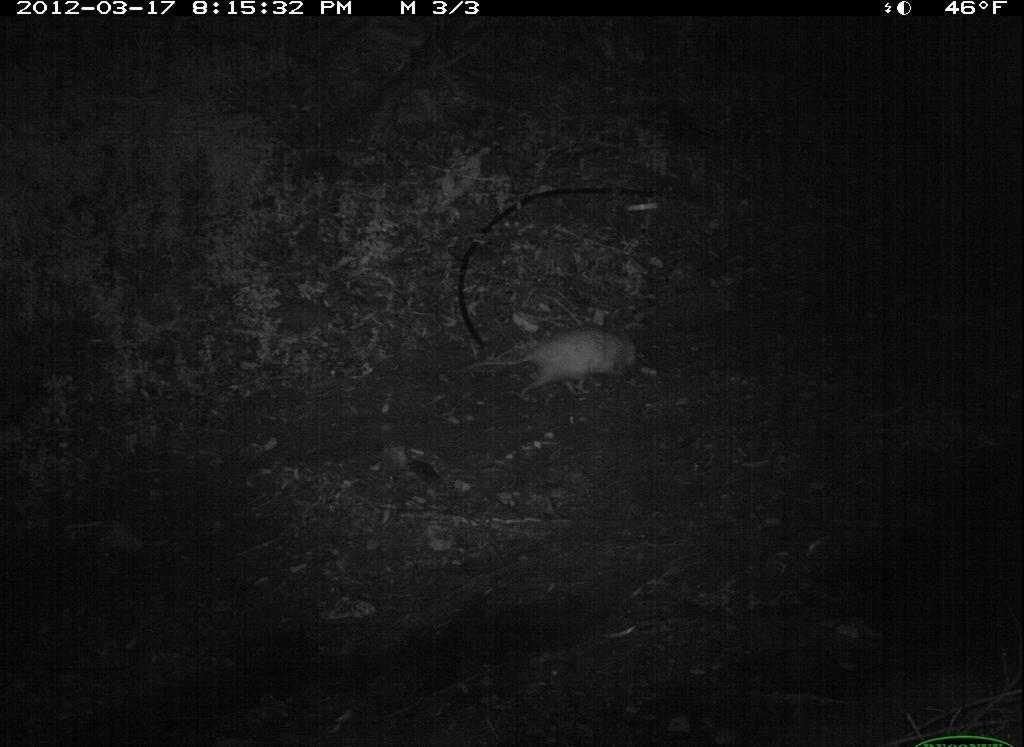opossum: (456, 323, 644, 410)
